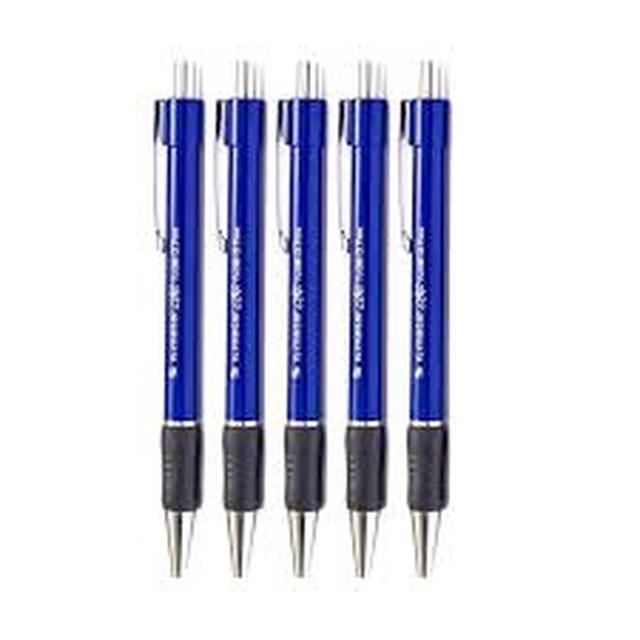pen: (391, 41, 468, 598), (148, 49, 214, 592), (334, 29, 394, 600), (274, 44, 330, 596), (217, 49, 274, 591)
